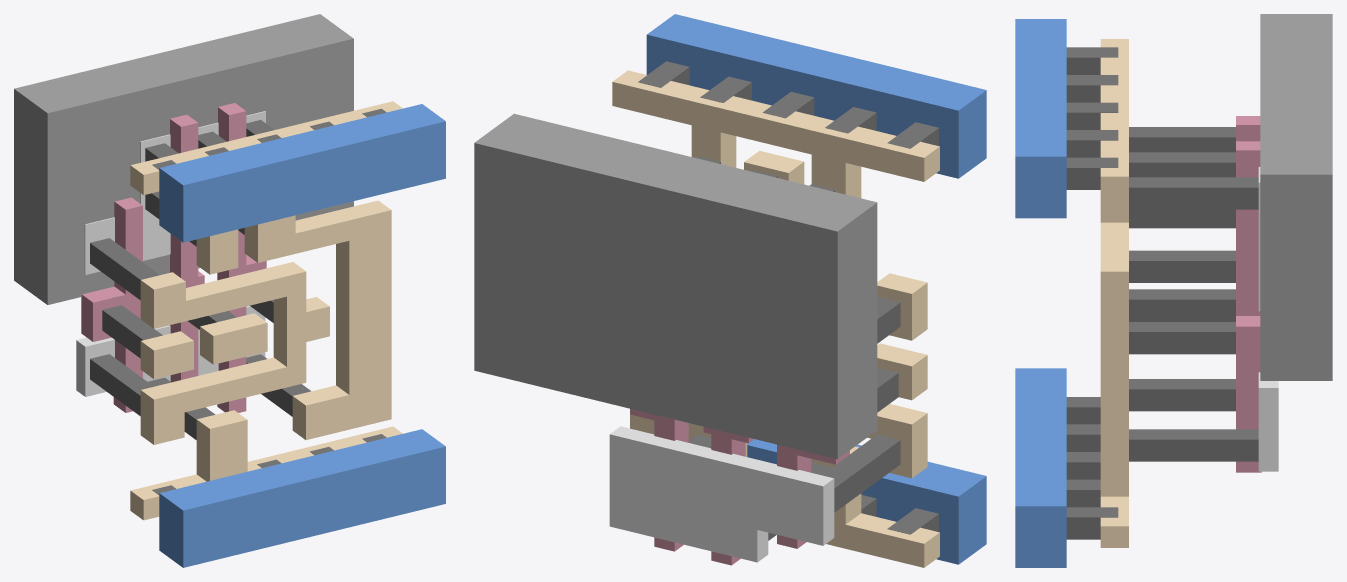
The model's file is sky130_fd_sc_hd__nand2b_1.gds.gltf.
The picture shows the model from 3 angles, left to right: view 1: azimuth 30°, elevation 25°; view 2: azimuth 150°, elevation 25°; view 3: azimuth 270°, elevation 25°; orthographic projection. The views are drawn at different scales.
Parts seen in each view (by area): view 1: sky130_fd_sc_hd__nand2b_1_li1, sky130_fd_sc_hd__nand2b_1_met1, sky130_fd_sc_hd__nand2b_1_nwell, sky130_fd_sc_hd__nand2b_1_poly, sky130_fd_sc_hd__nand2b_1_licon, sky130_fd_sc_hd__nand2b_1_diff, sky130_fd_sc_hd__nand2b_1_mcon; view 2: sky130_fd_sc_hd__nand2b_1_nwell, sky130_fd_sc_hd__nand2b_1_met1, sky130_fd_sc_hd__nand2b_1_li1, sky130_fd_sc_hd__nand2b_1_diff, sky130_fd_sc_hd__nand2b_1_mcon, sky130_fd_sc_hd__nand2b_1_licon, sky130_fd_sc_hd__nand2b_1_poly; view 3: sky130_fd_sc_hd__nand2b_1_licon, sky130_fd_sc_hd__nand2b_1_nwell, sky130_fd_sc_hd__nand2b_1_met1, sky130_fd_sc_hd__nand2b_1_li1, sky130_fd_sc_hd__nand2b_1_mcon, sky130_fd_sc_hd__nand2b_1_poly, sky130_fd_sc_hd__nand2b_1_diff.
Boxes of the visible parts, x1,y1,x2,y2 form: sky130_fd_sc_hd__nand2b_1_li1: [130, 101, 402, 520]; sky130_fd_sc_hd__nand2b_1_met1: [159, 104, 445, 567]; sky130_fd_sc_hd__nand2b_1_nwell: [14, 14, 353, 304]; sky130_fd_sc_hd__nand2b_1_poly: [81, 103, 266, 412]; sky130_fd_sc_hd__nand2b_1_licon: [90, 120, 310, 439]; sky130_fd_sc_hd__nand2b_1_diff: [76, 111, 265, 396]; sky130_fd_sc_hd__nand2b_1_mcon: [152, 108, 386, 494]; sky130_fd_sc_hd__nand2b_1_nwell: [474, 113, 877, 459]; sky130_fd_sc_hd__nand2b_1_met1: [646, 14, 986, 564]; sky130_fd_sc_hd__nand2b_1_li1: [612, 70, 939, 567]; sky130_fd_sc_hd__nand2b_1_diff: [609, 426, 834, 562]; sky130_fd_sc_hd__nand2b_1_mcon: [638, 61, 938, 534]; sky130_fd_sc_hd__nand2b_1_licon: [688, 156, 900, 540]; sky130_fd_sc_hd__nand2b_1_poly: [630, 408, 849, 565]; sky130_fd_sc_hd__nand2b_1_licon: [1129, 127, 1258, 461]; sky130_fd_sc_hd__nand2b_1_nwell: [1260, 14, 1332, 380]; sky130_fd_sc_hd__nand2b_1_met1: [1015, 19, 1066, 567]; sky130_fd_sc_hd__nand2b_1_li1: [1100, 39, 1128, 547]; sky130_fd_sc_hd__nand2b_1_mcon: [1066, 47, 1118, 539]; sky130_fd_sc_hd__nand2b_1_poly: [1236, 116, 1261, 472]; sky130_fd_sc_hd__nand2b_1_diff: [1258, 167, 1278, 471].
Size of the model in its own units: 2.68 by 3.2 by 2.24.
